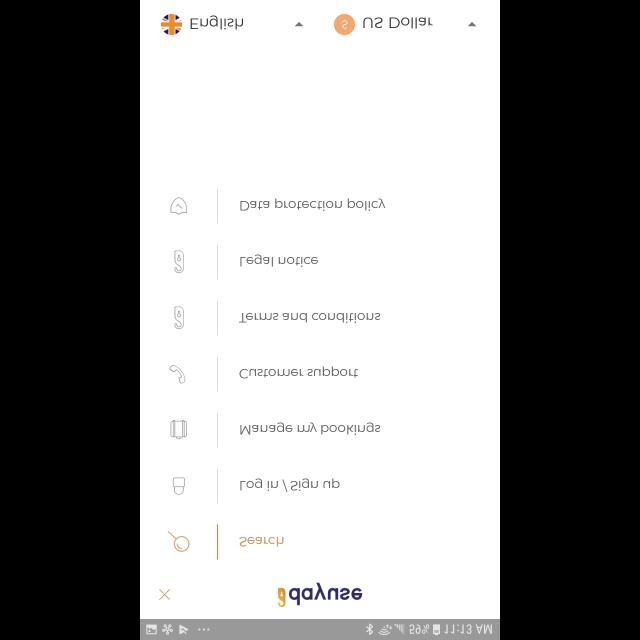icon: (169, 530, 191, 552), (334, 13, 356, 35), (170, 420, 188, 440), (174, 477, 186, 495), (160, 588, 170, 600), (468, 21, 477, 27), (295, 22, 305, 26)
image: (162, 13, 182, 35), (170, 364, 187, 384), (170, 197, 188, 215), (175, 306, 185, 330), (175, 250, 185, 274), (278, 588, 286, 606)
text: (241, 422, 381, 436), (240, 198, 386, 210), (240, 312, 380, 324), (289, 582, 363, 604), (240, 366, 358, 378), (240, 477, 340, 491), (241, 255, 319, 268), (363, 17, 433, 29), (190, 15, 243, 30), (240, 536, 284, 546)
uppertaskbar: (140, 618, 500, 640)
